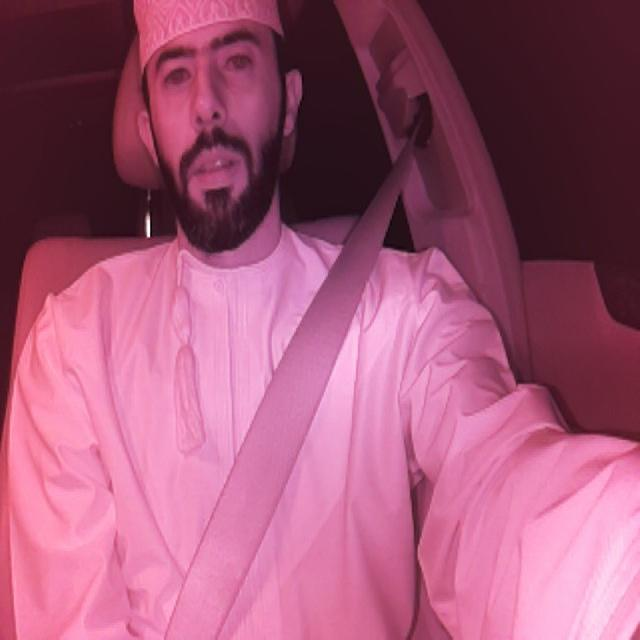seatbelt: (165, 122, 422, 638)
